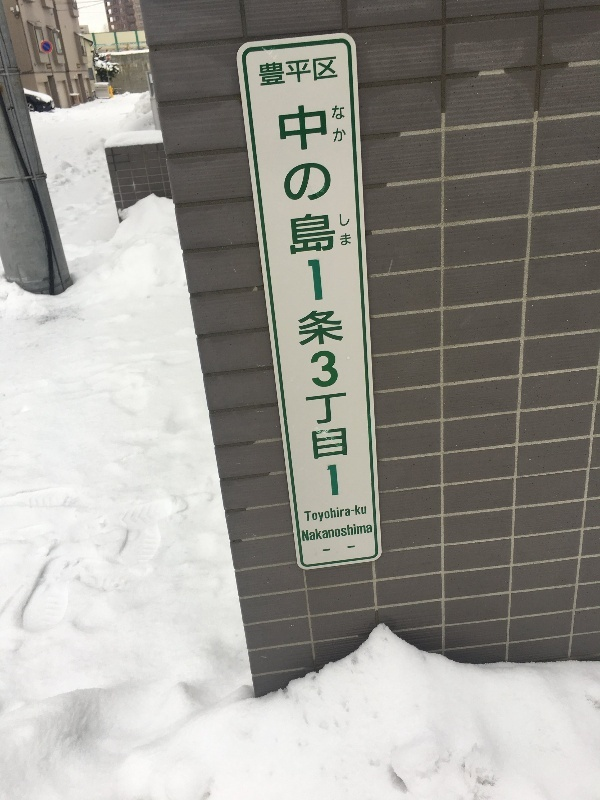text: (337, 101, 353, 502), (289, 101, 304, 502), (305, 101, 320, 502), (321, 101, 336, 502), (276, 101, 288, 502), (273, 56, 288, 87), (289, 56, 304, 87), (305, 56, 320, 87), (321, 56, 336, 87), (340, 212, 352, 249), (259, 56, 272, 87), (337, 103, 346, 147), (305, 503, 320, 524), (321, 503, 336, 524), (337, 503, 352, 524), (305, 522, 320, 543), (321, 522, 336, 543), (337, 522, 352, 543), (353, 522, 368, 543), (353, 503, 367, 524), (330, 103, 336, 147), (369, 522, 373, 543), (337, 56, 339, 87), (302, 522, 304, 543)
